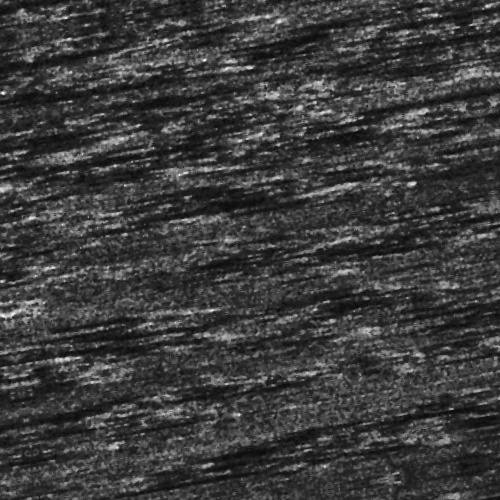object: (402, 263, 500, 280), (124, 166, 197, 187), (147, 19, 240, 32), (282, 195, 407, 204), (0, 318, 94, 327), (324, 340, 377, 349), (378, 44, 441, 51), (97, 316, 160, 321), (53, 411, 94, 418), (221, 463, 262, 470), (461, 238, 500, 245), (26, 89, 79, 94), (205, 62, 258, 67), (460, 11, 500, 16), (476, 337, 500, 344), (74, 498, 127, 500)
shadow: (314, 263, 469, 280), (0, 19, 193, 32), (86, 166, 161, 187), (175, 195, 344, 204), (64, 463, 241, 470), (222, 340, 350, 349), (358, 337, 500, 344), (277, 44, 409, 51), (51, 62, 231, 67), (415, 238, 500, 245), (421, 129, 500, 136), (18, 316, 128, 321), (0, 411, 73, 418), (385, 11, 480, 16), (0, 318, 42, 327), (451, 72, 500, 79), (445, 388, 500, 393), (0, 89, 53, 94), (470, 52, 500, 59), (0, 498, 100, 500)
